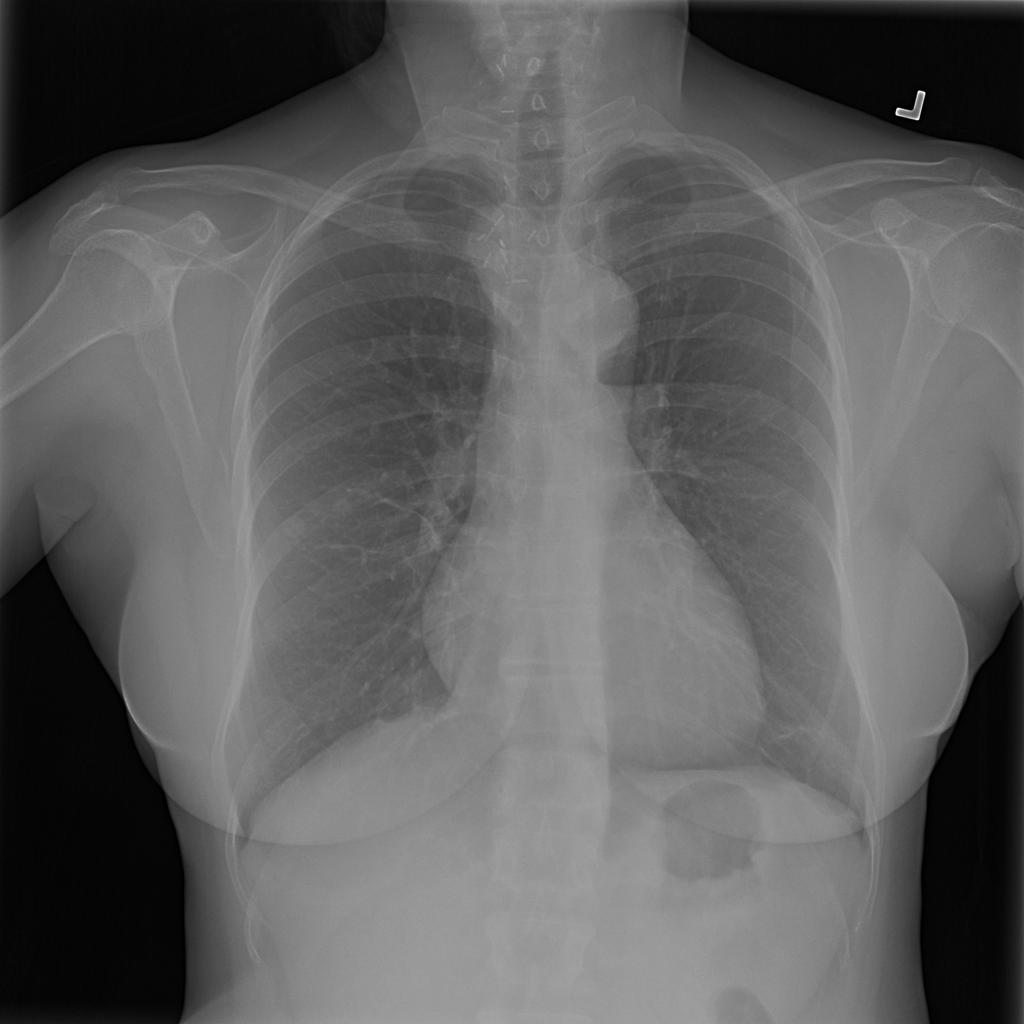nodule: (270, 500, 319, 549), (318, 483, 365, 531)
